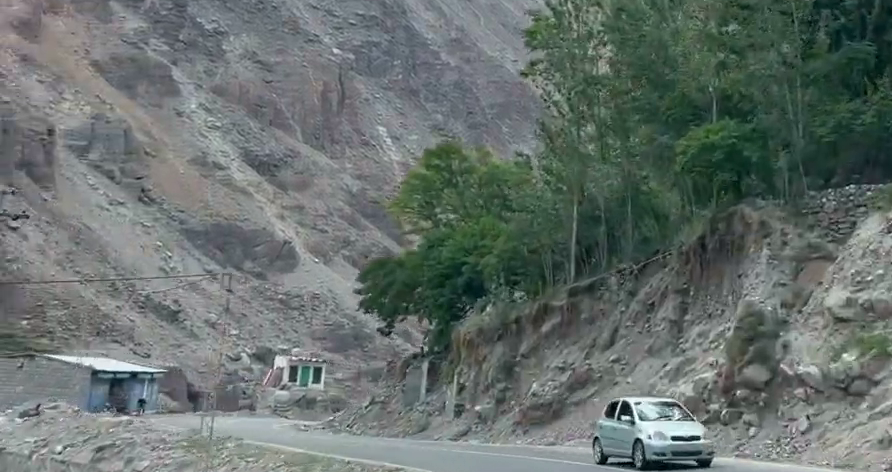unexpected: (262, 356, 577, 446)
